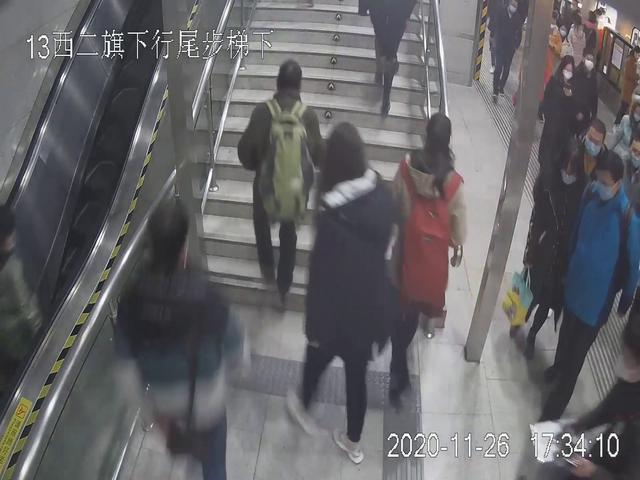person: (101, 201, 241, 473), (289, 118, 396, 456), (541, 147, 634, 431), (387, 96, 467, 404), (238, 56, 322, 305), (509, 142, 585, 344), (537, 53, 589, 180), (491, 3, 522, 106)
